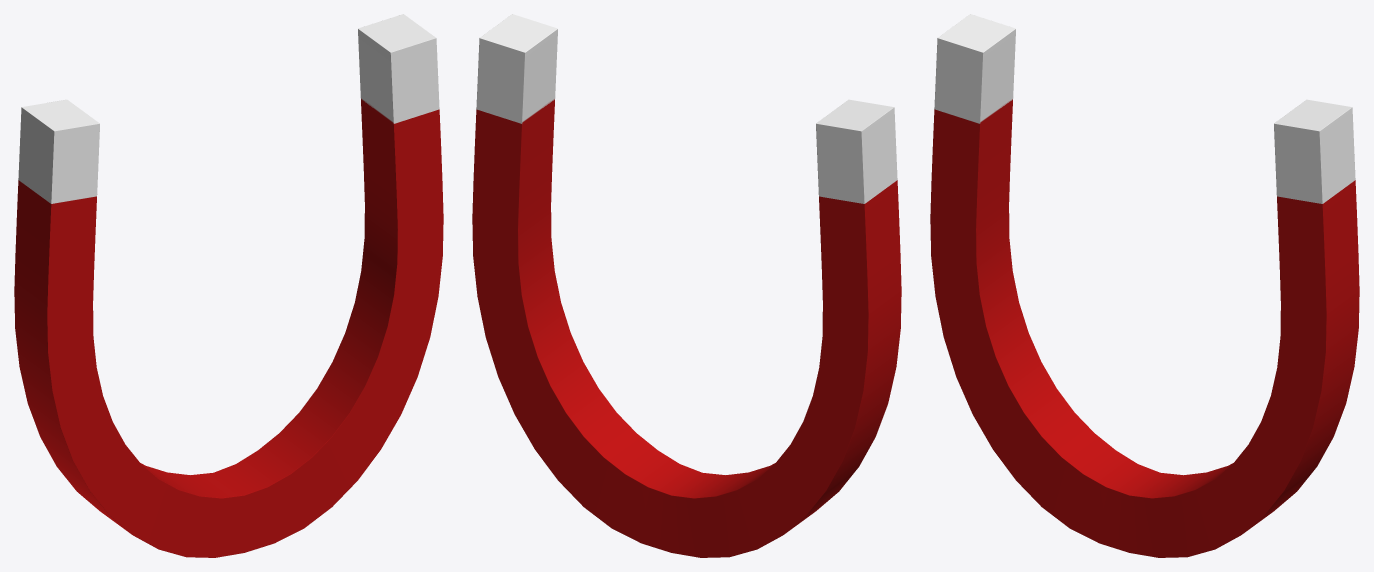
Rendered from magnetFIXED.fbx.
3 renders of one model, left to right at view 1: azimuth 30°, elevation 25°; view 2: azimuth 150°, elevation 25°; view 3: azimuth 330°, elevation 25°, orthographic.
Visible parts, largest first — view 1: pCube2; view 2: pCube2; view 3: pCube2.
Boxes of the visible parts, <box> form: pCube2: <box>14,14,443,557</box>; pCube2: <box>472,14,901,557</box>; pCube2: <box>930,14,1359,557</box>.
Bounding box in the file's own units: 2.5 × 2.82 × 0.3595.
